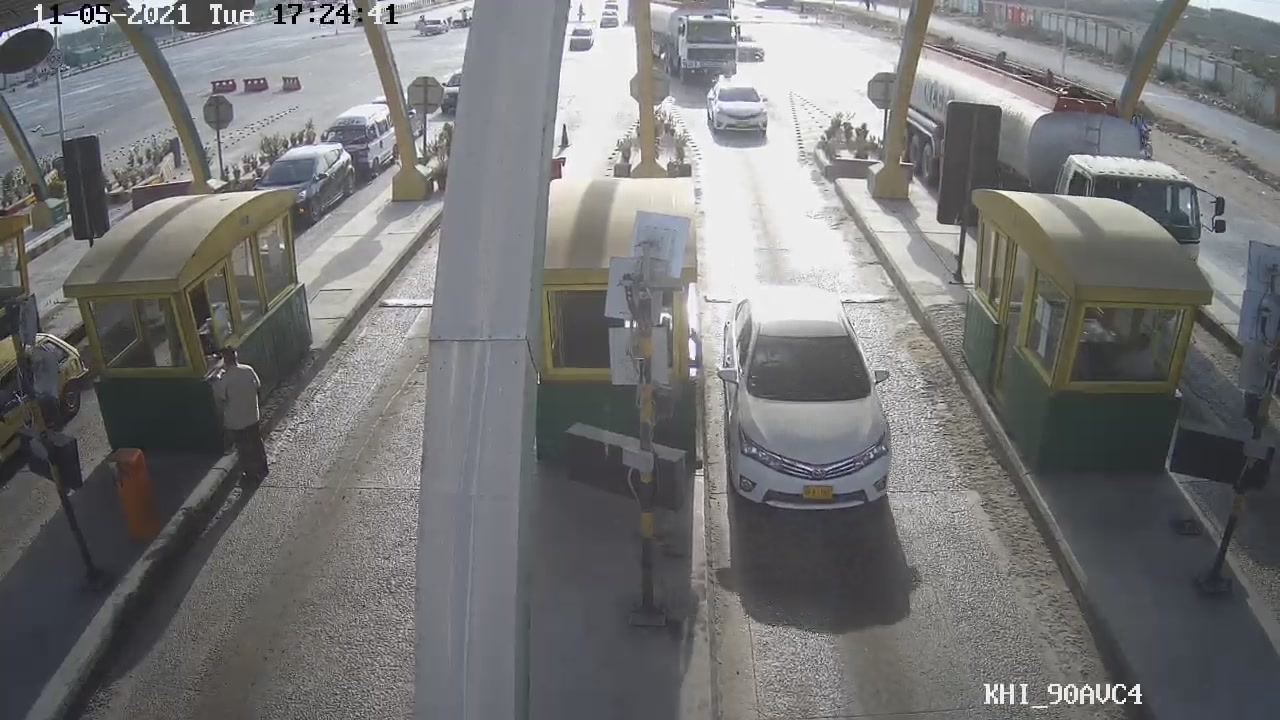F1: (706, 276, 906, 521)
